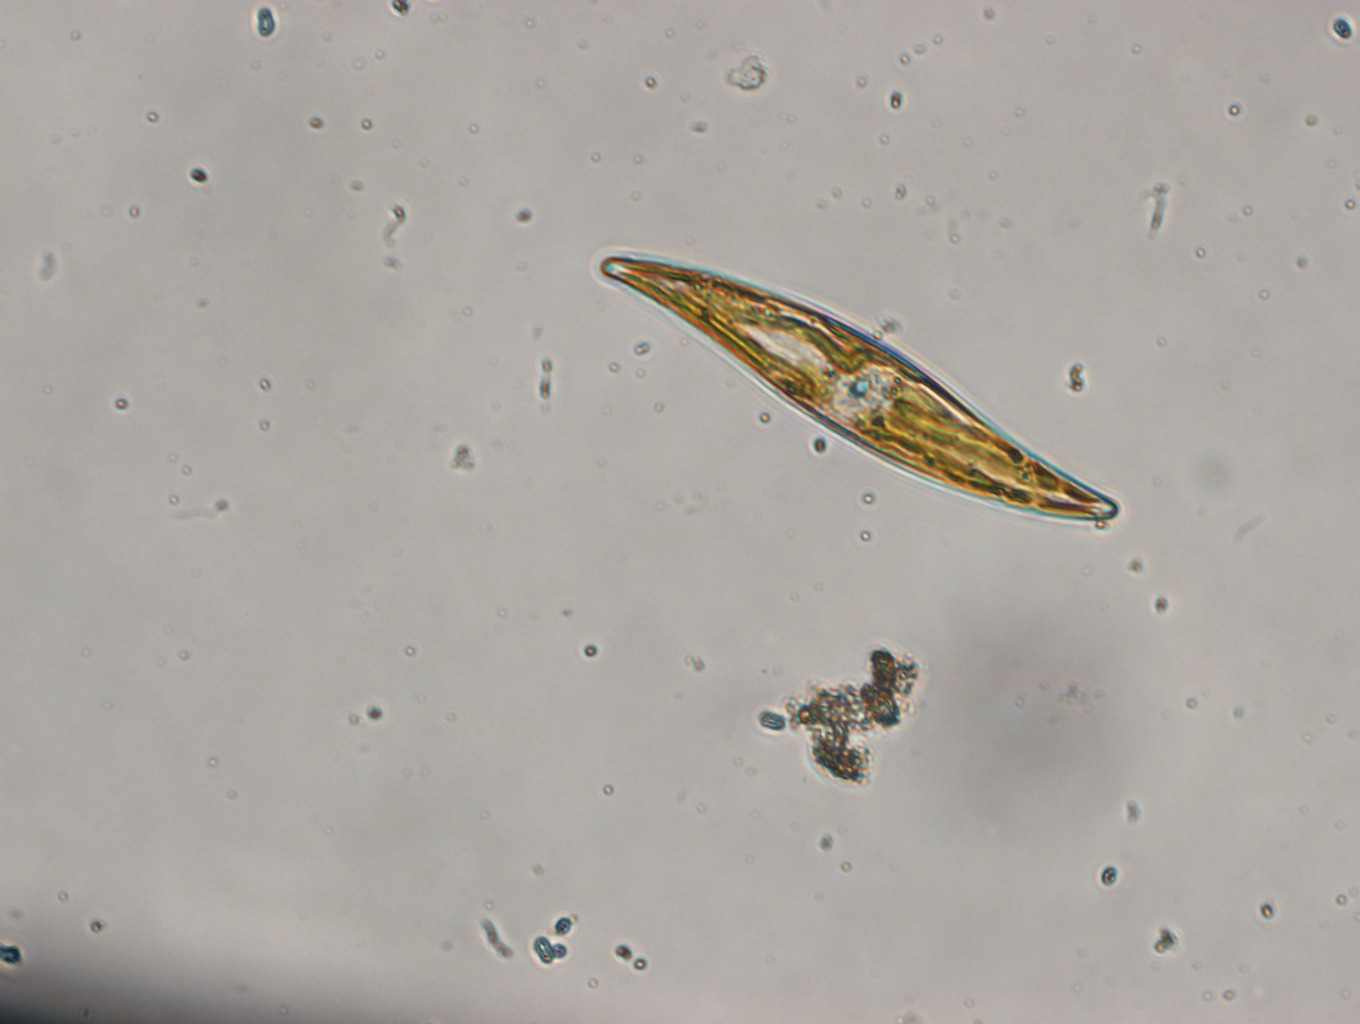pleurosigma pelagicum: (592, 250, 1123, 525)
